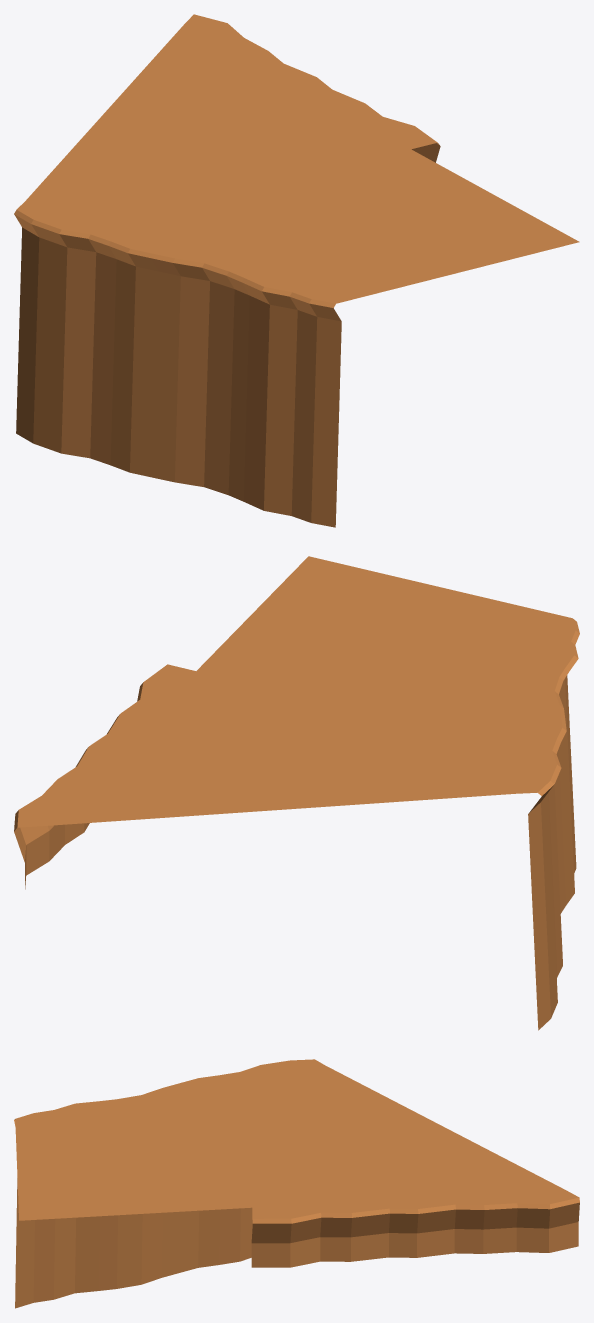
Rendered from Collider_ground3.fbx.
The picture shows the model from 3 angles, top to bottom: view 1: azimuth 30°, elevation 25°; view 2: azimuth 150°, elevation 25°; view 3: azimuth 270°, elevation 25°; orthographic projection. The views are drawn at different scales.
Visible parts, largest first — view 1: 平面.048; view 2: 平面.048; view 3: 平面.048.
Boxes of the visible parts, bbox=[...] form: 平面.048: bbox=[14, 14, 579, 527]; 平面.048: bbox=[14, 556, 579, 1030]; 平面.048: bbox=[14, 1059, 579, 1308].
Size of the model in its own units: 3845 by 5651 by 2093.
